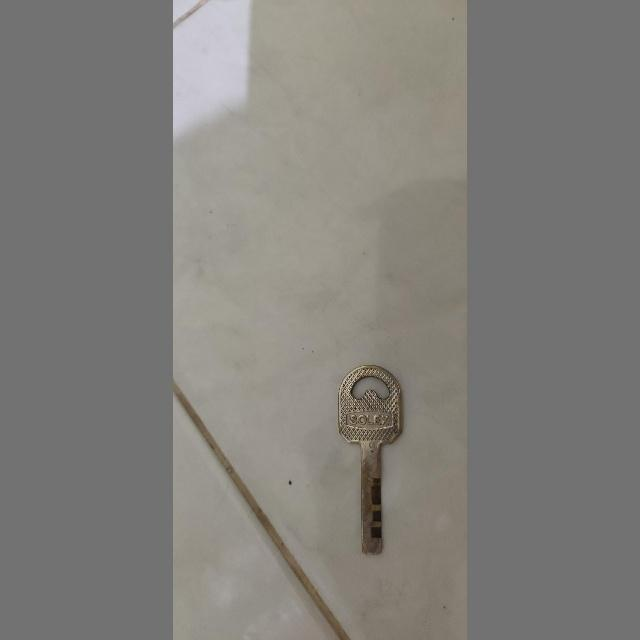Keys: (332, 362, 412, 570)
